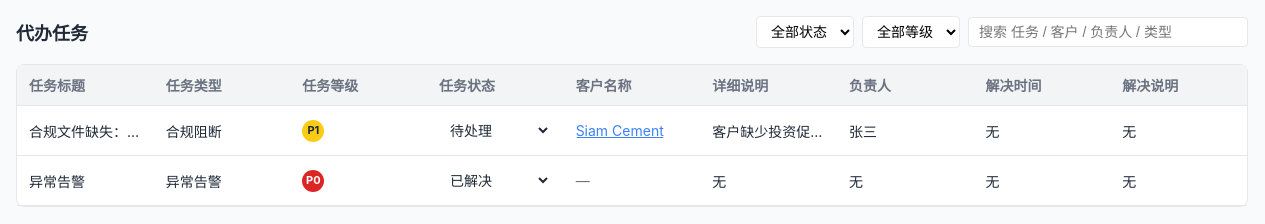
Test: TaskList › filters tasks by customer name via search input
Expected: the button "Siam Cement" is shown, [576, 122, 664, 139]
Type "siam" into the search field with test id "search-input".
click(1108, 32); type("siam")  # box [968, 17, 1248, 47]
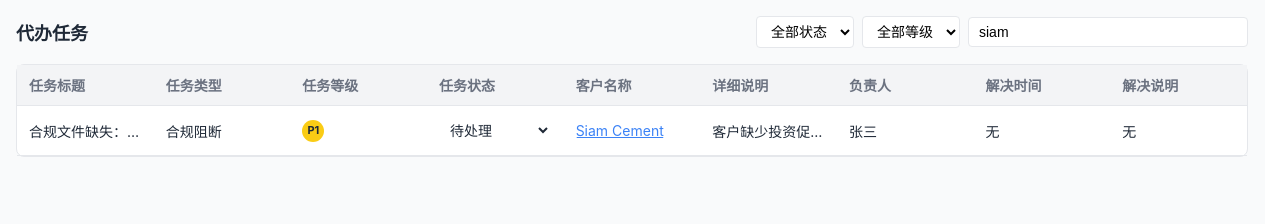
Expected: the text "合规文件缺失：泰国 BOI" is shown, [17, 106, 154, 156]
Expected: the text "异常告警" is gone
